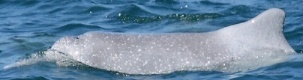fin: (46, 4, 299, 77)
